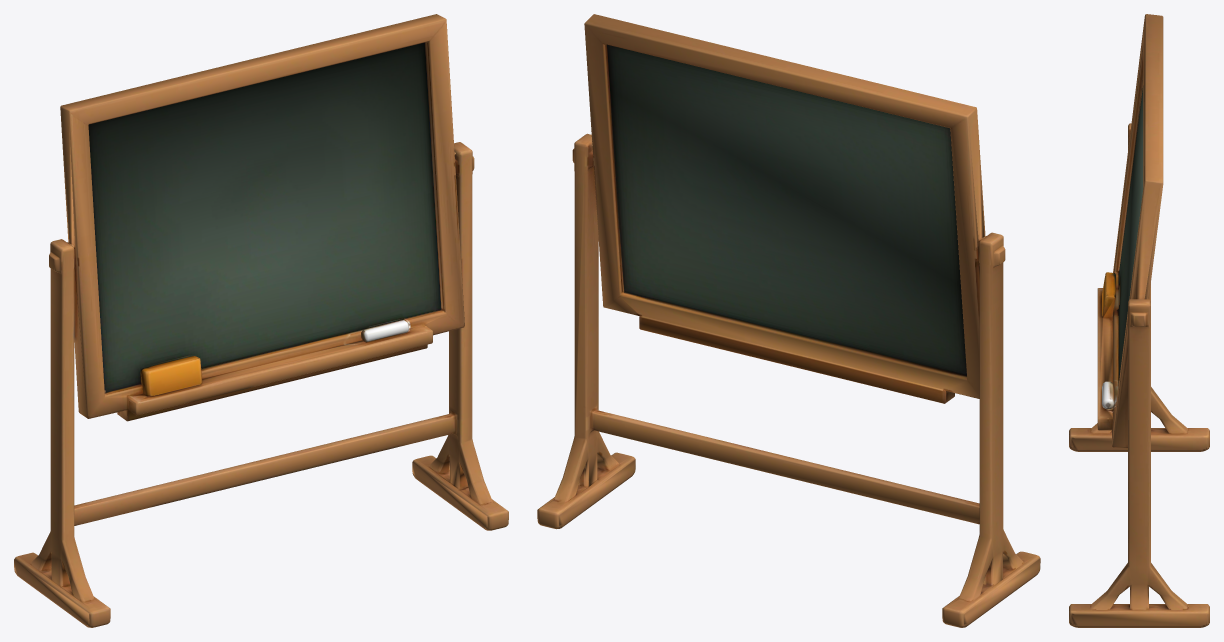
The model's file is Electronics__blackboard_realistic_style_5cec1287_v1.cluster.glb.
3 renders of one model, left to right at view 1: azimuth 30°, elevation 25°; view 2: azimuth 150°, elevation 25°; view 3: azimuth 270°, elevation 25°, orthographic. The views are drawn at different scales.
Parts seen in each view (by area): view 1: texture_pbr_20250901; view 2: texture_pbr_20250901; view 3: texture_pbr_20250901.
Boxes of the visible parts, left/top/right/bottom form: texture_pbr_20250901: left=14, top=14, right=508, bottom=627; texture_pbr_20250901: left=537, top=14, right=1040, bottom=627; texture_pbr_20250901: left=1069, top=14, right=1209, bottom=627.
Size of the model in its own units: 1.72 by 1.9 by 0.5508.
Materials: 1 (1 with a texture image).
